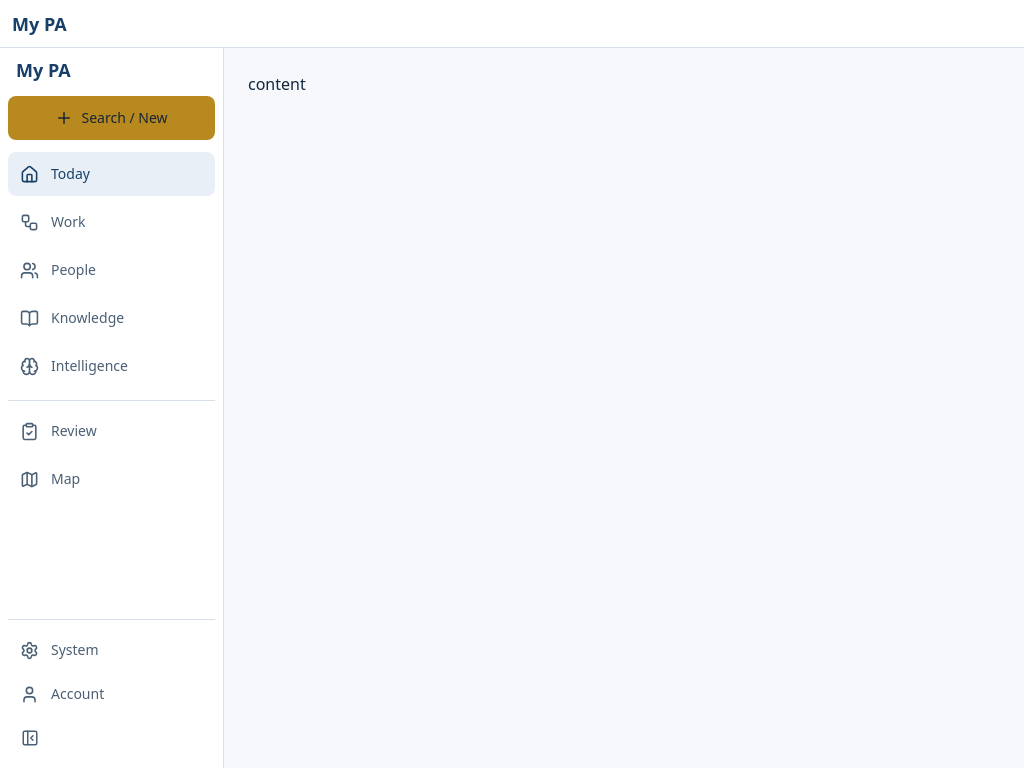
Test case: the unified launcher New menu › routes Conversation Log into the canonical Capture composition
Click the button with test id "launcher-button-desktop": click(112, 118) [8,96,215,140]
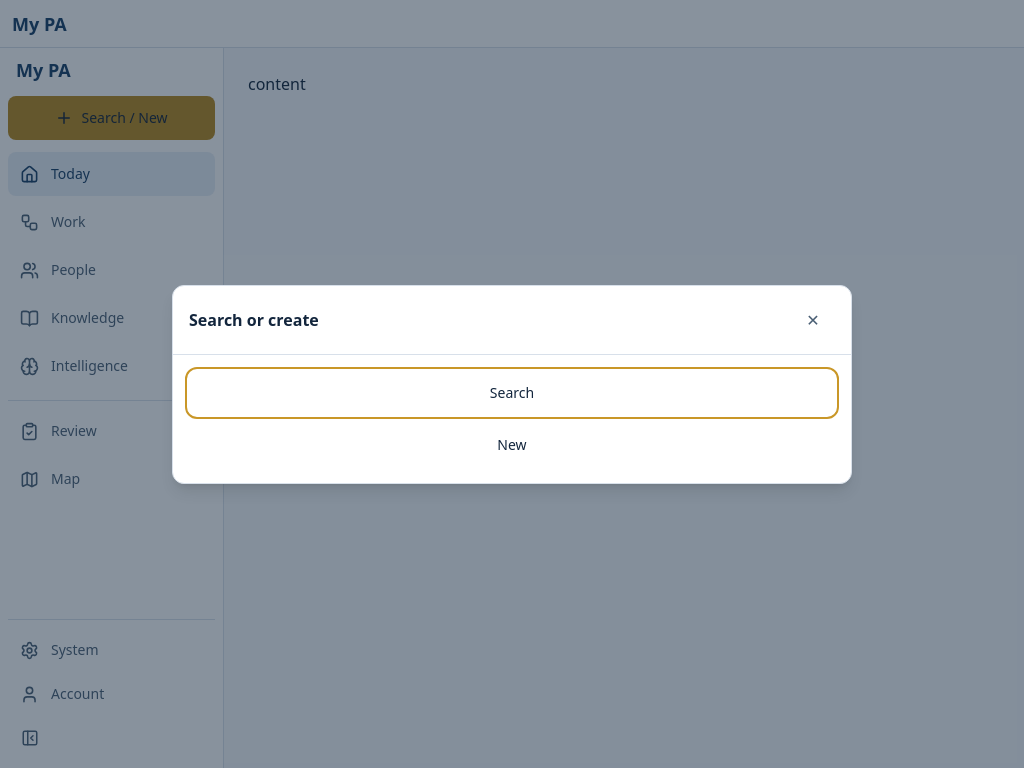
Click the button "New": click(512, 444) [189,422,835,466]
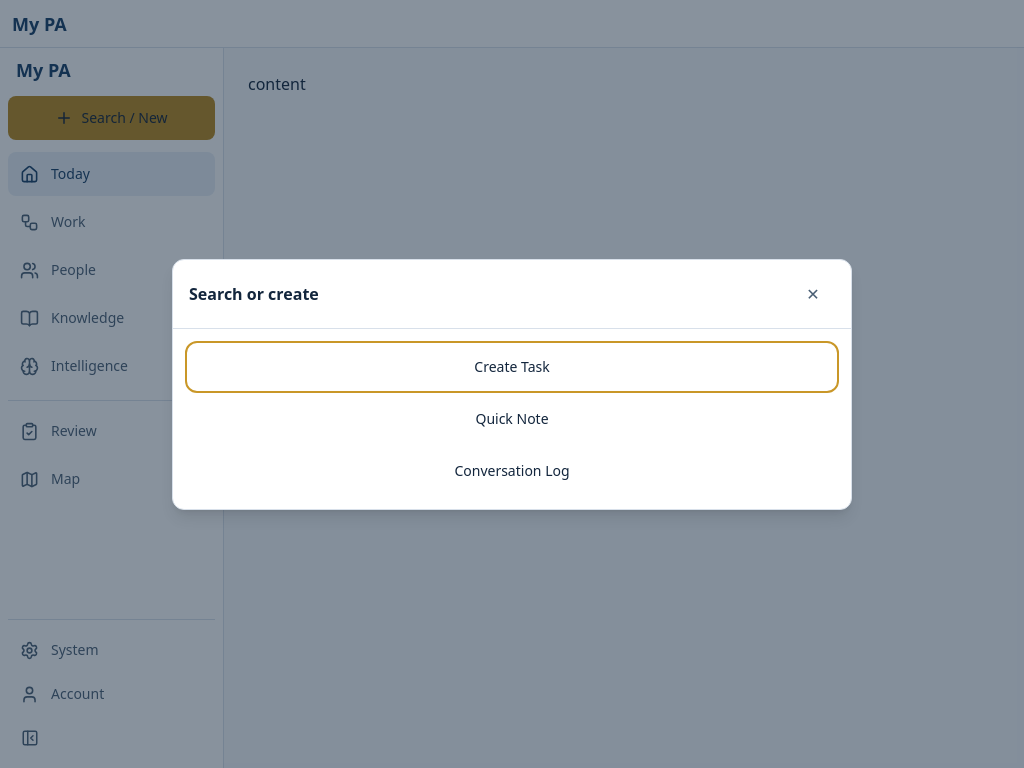
Click the button "Conversation Log": click(512, 470) [189,448,835,492]
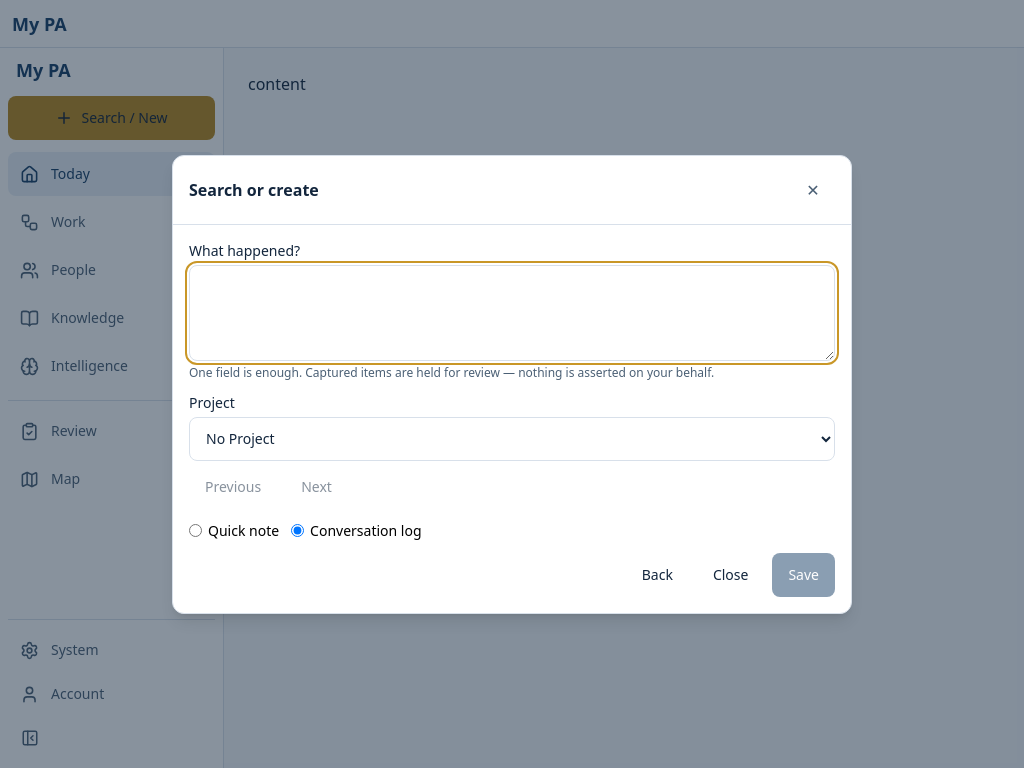
Expected: the radio button with test id "capture-kind-conversation_log" is checked, [291,524,304,537]
Expected: the text box with test id "capture-field" is shown, [189,264,835,360]
